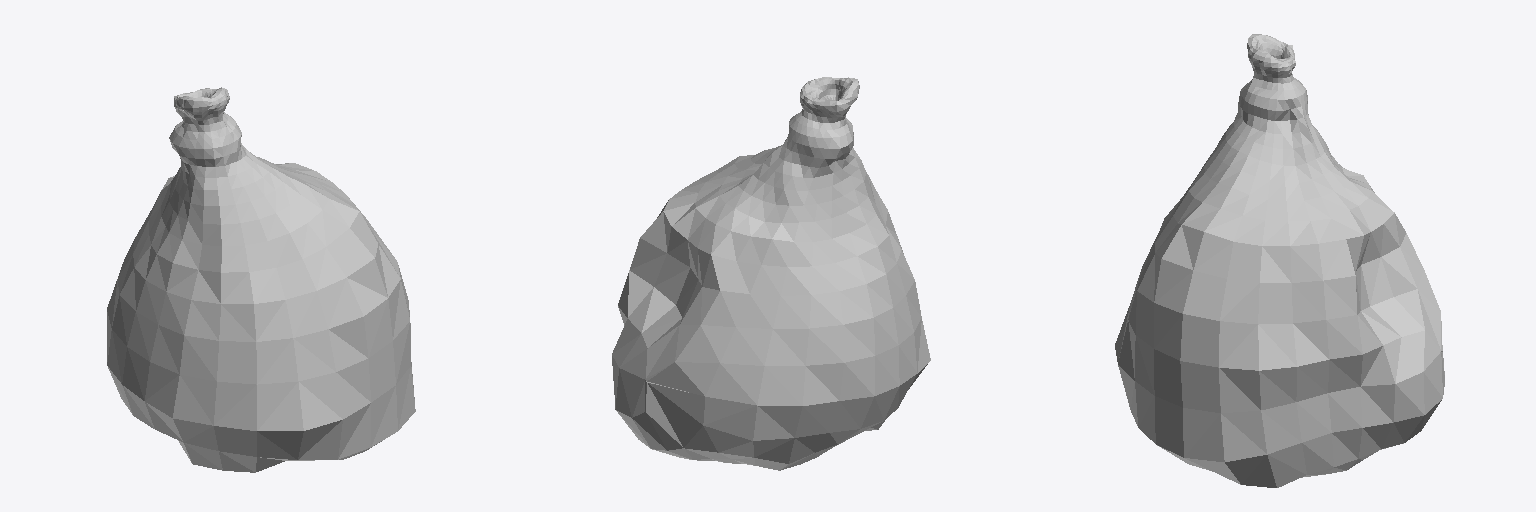
Rendered from Bolsa.obj.
3 renders of one model, left to right at view 1: azimuth 30°, elevation 25°; view 2: azimuth 150°, elevation 25°; view 3: azimuth 270°, elevation 25°, orthographic.
Parts seen in each view (by area): view 1: PlasticBag; view 2: PlasticBag; view 3: PlasticBag.
Part boxes in pixels (left/top/right/bottom): PlasticBag: left=107, top=87, right=415, bottom=472; PlasticBag: left=612, top=77, right=930, bottom=470; PlasticBag: left=1115, top=34, right=1444, bottom=487.
Bounding box in the file's own units: 164 × 219 × 177.